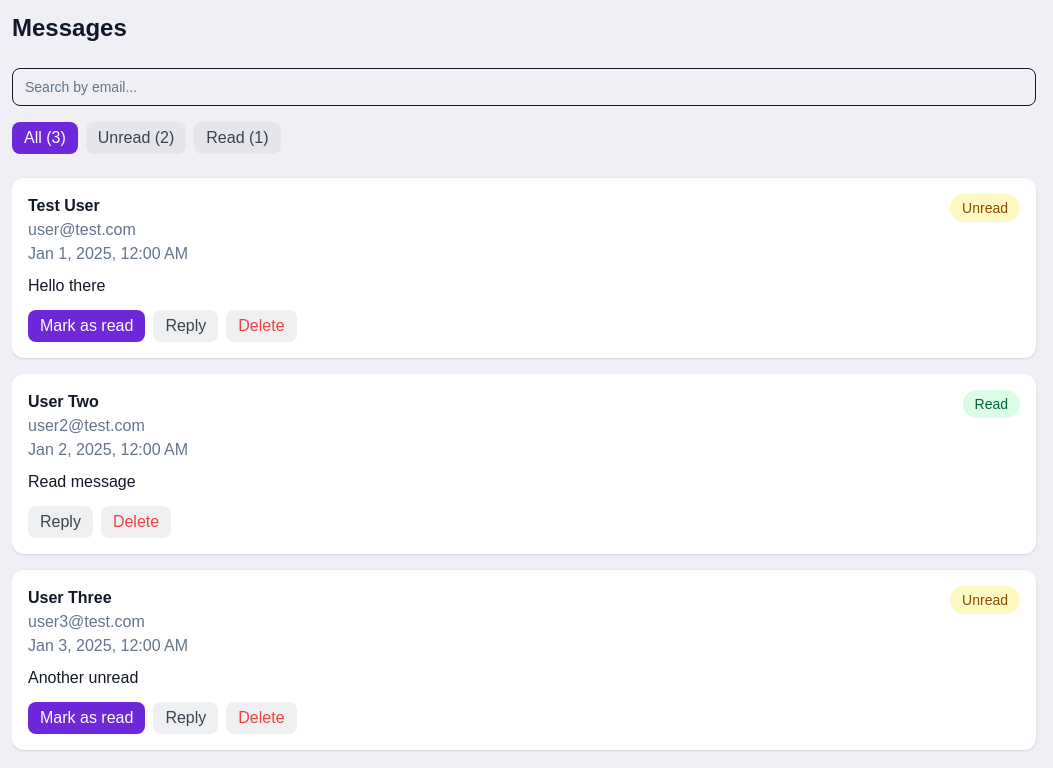
Test: MessagesPanel › filters messages by email search input
The image size is (1053, 768).
Type "user2" into the field with placeholder "Search by email..." at coordinates (524, 87), box [12,68,1036,106]
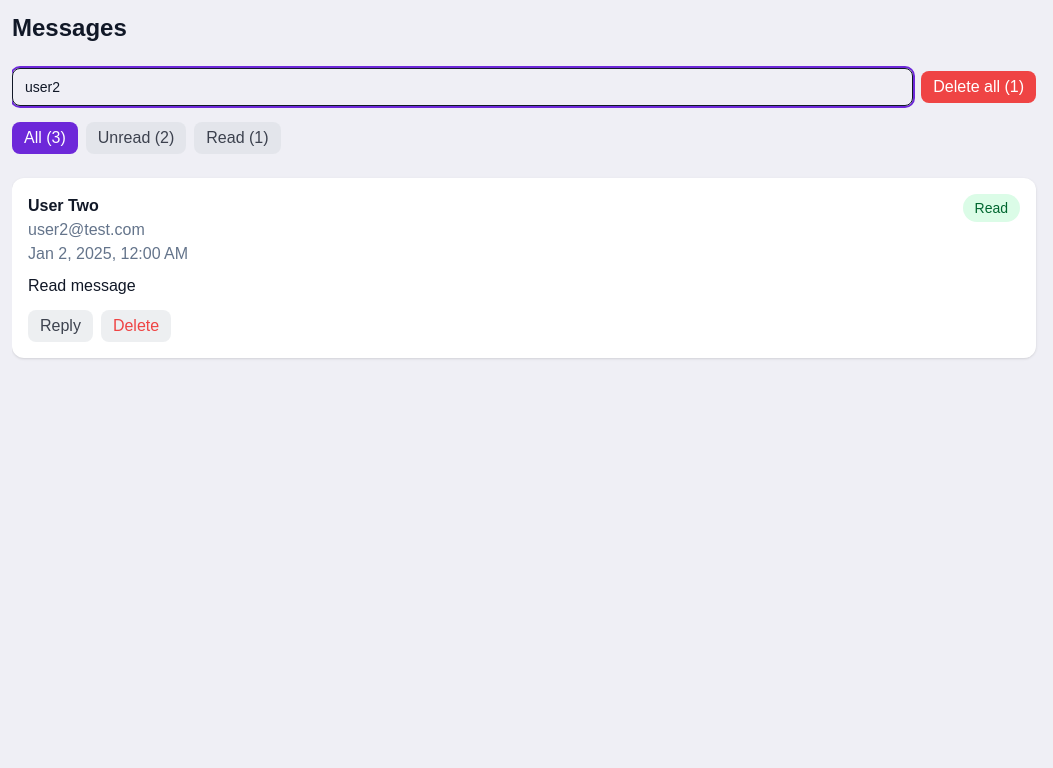
Expected: the text "Read message" is shown, [28,277,136,294]
Expected: the text "Hello there" is gone
Expected: the text "Another unread" is gone
